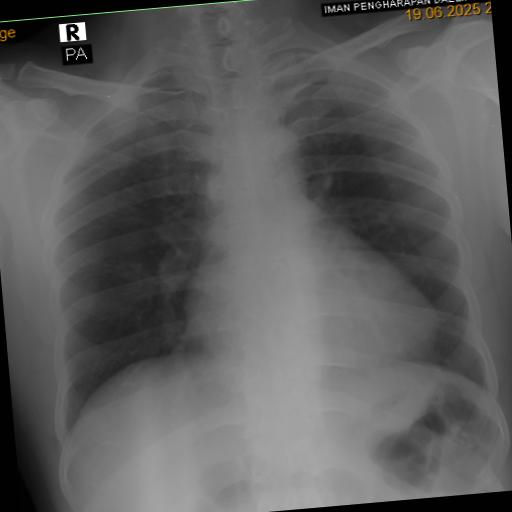kardiomegali: (8, 15, 512, 474)
